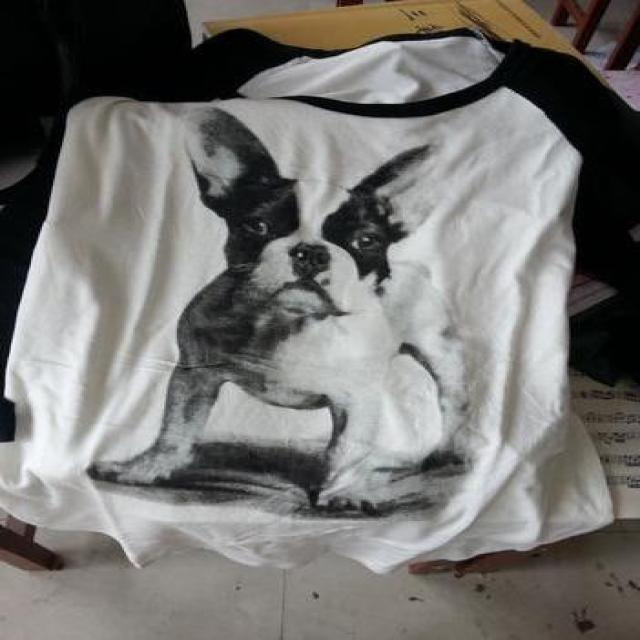long sleeve top: (5, 31, 638, 565)
